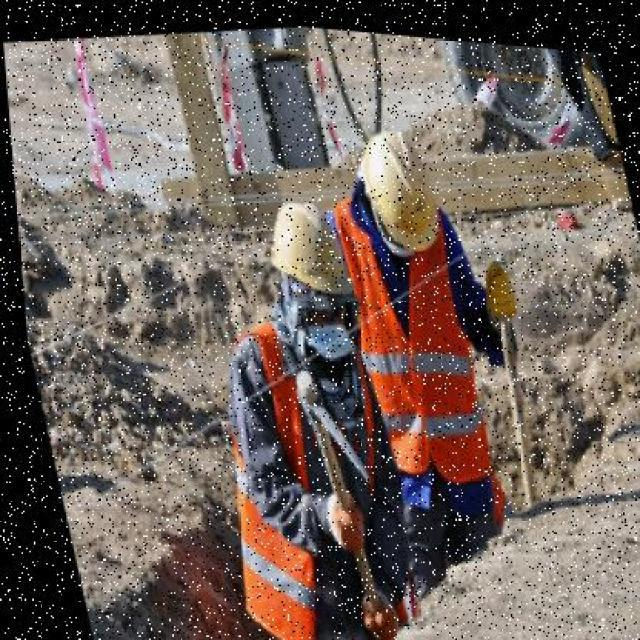helmet: (351, 120, 445, 256), (254, 180, 356, 305)
vest: (335, 216, 495, 497)
